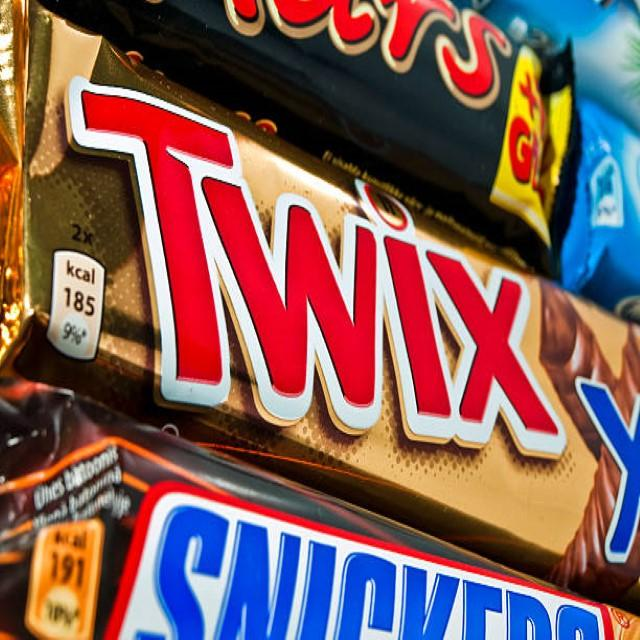mars_chocolate: (106, 0, 531, 223)
snickers_chocolate: (53, 438, 640, 640)
